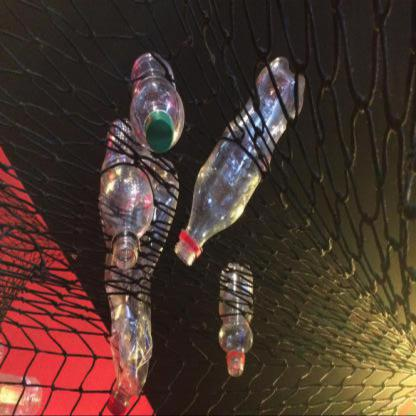Bottle: (145, 113, 174, 153)
Bottle cap: (174, 58, 304, 266), (98, 155, 180, 411), (100, 118, 154, 270), (130, 52, 184, 153), (219, 263, 253, 377), (1, 372, 43, 416)
